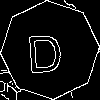D: (25, 25, 64, 74)
